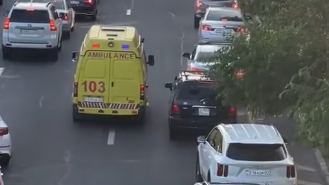intensive care unit: (73, 24, 148, 123)
non emergency car: (45, 23, 175, 116), (198, 123, 297, 184), (168, 71, 238, 140), (2, 1, 62, 60), (198, 7, 250, 47), (185, 44, 239, 73), (50, 1, 75, 38), (67, 0, 97, 20)
